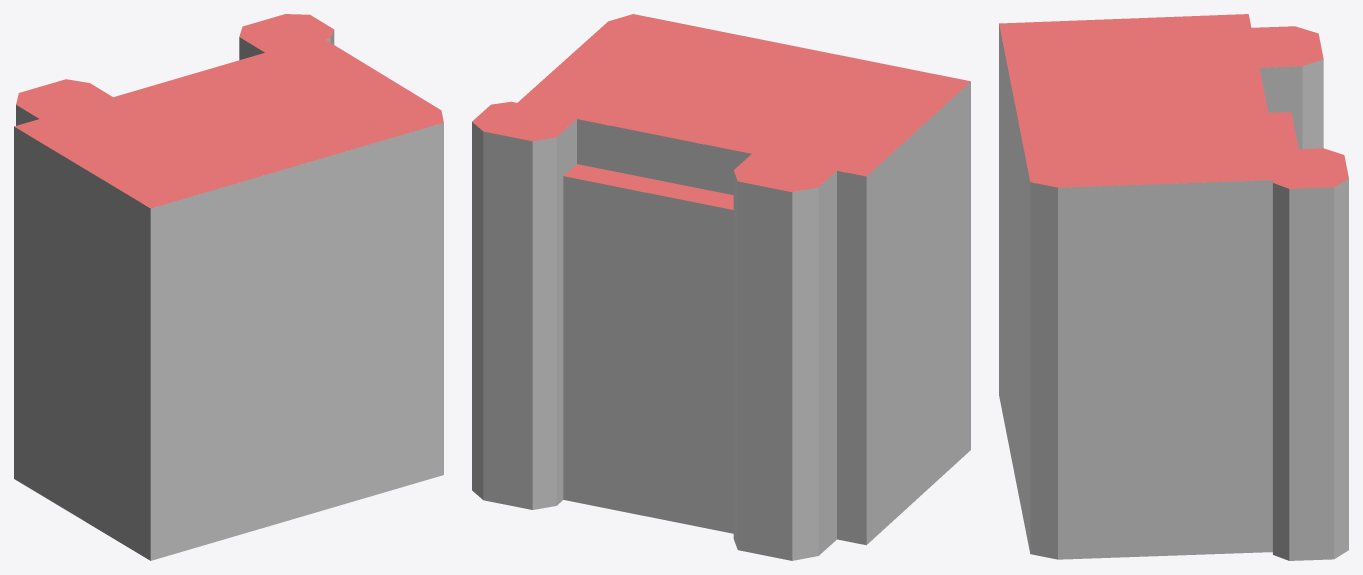
3 renders of one model, left to right at view 1: azimuth 30°, elevation 25°; view 2: azimuth 150°, elevation 25°; view 3: azimuth 270°, elevation 25°, orthographic. The views are drawn at different scales.
Parts seen in each view (by area): view 1: Z_UP; view 2: Z_UP; view 3: Z_UP.
Boxes of the visible parts, x1,y1,x2,y2 form: Z_UP: [14, 14, 443, 560]; Z_UP: [472, 14, 970, 560]; Z_UP: [999, 14, 1348, 560].
Bounding box in the file's own units: 19.07 × 18.91 × 16.11.
